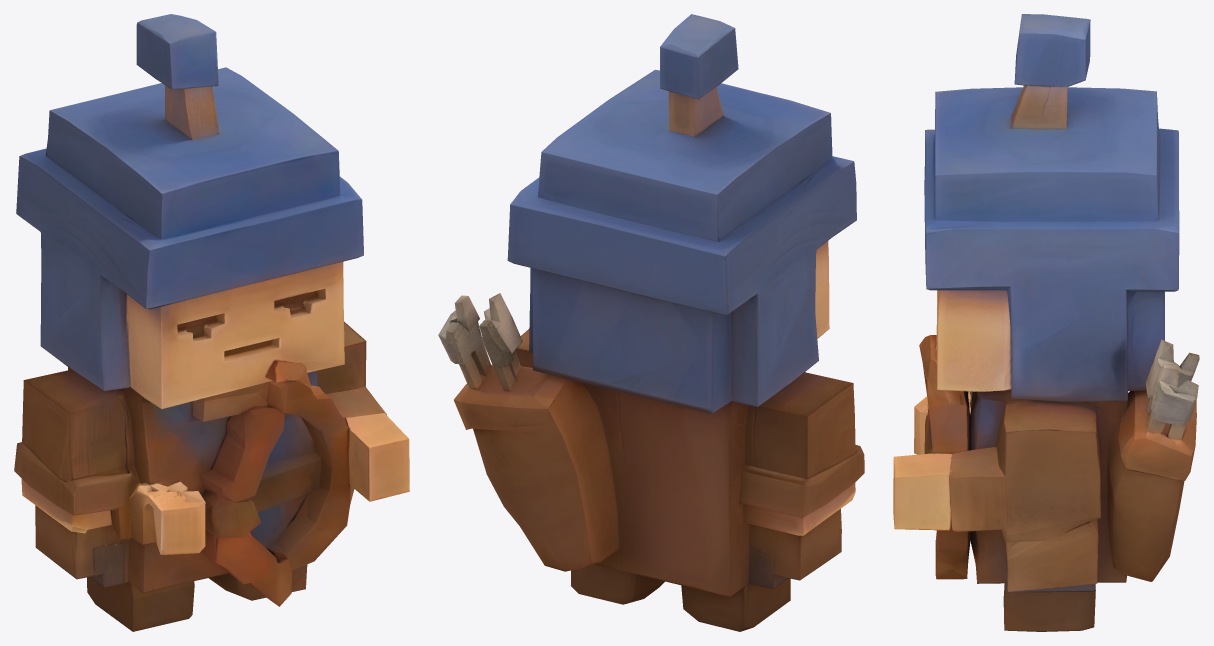
Rendered from Archer_shaded.glb.
3 renders of one model, left to right at view 1: azimuth 30°, elevation 25°; view 2: azimuth 150°, elevation 25°; view 3: azimuth 270°, elevation 25°, orthographic. The views are drawn at different scales.
Parts seen in each view (by area): view 1: model; view 2: model; view 3: model.
Boxes of the visible parts, x1,y1,x2,y2 form: model: [14, 14, 409, 631]; model: [438, 14, 864, 631]; model: [893, 14, 1199, 631].
Size of the model in its own units: 1.13 by 1.89 by 0.9401.
1 material, 1 textured.
